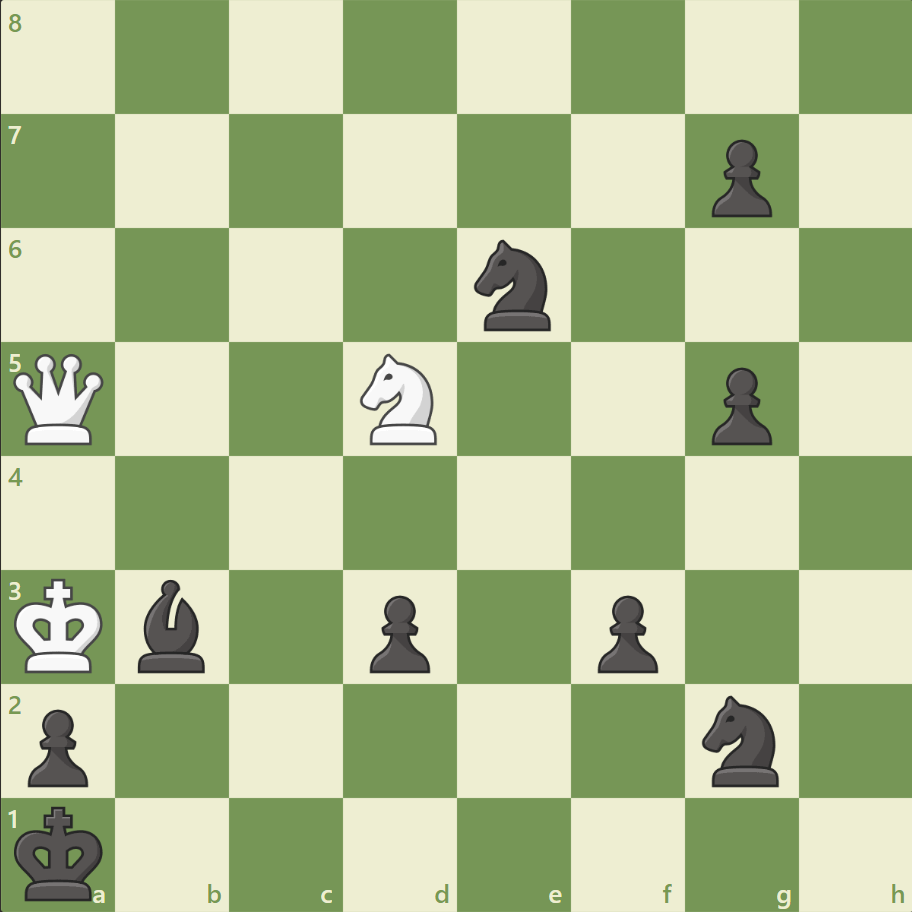K: (11, 571, 111, 679)
N: (351, 348, 449, 450)
Q: (10, 349, 109, 449)
b: (131, 574, 215, 676)
k: (11, 798, 111, 906)
n: (465, 234, 562, 337), (692, 688, 789, 791)
p: (701, 132, 776, 223), (701, 359, 776, 450), (20, 700, 95, 791), (361, 586, 435, 677), (588, 586, 662, 677)
